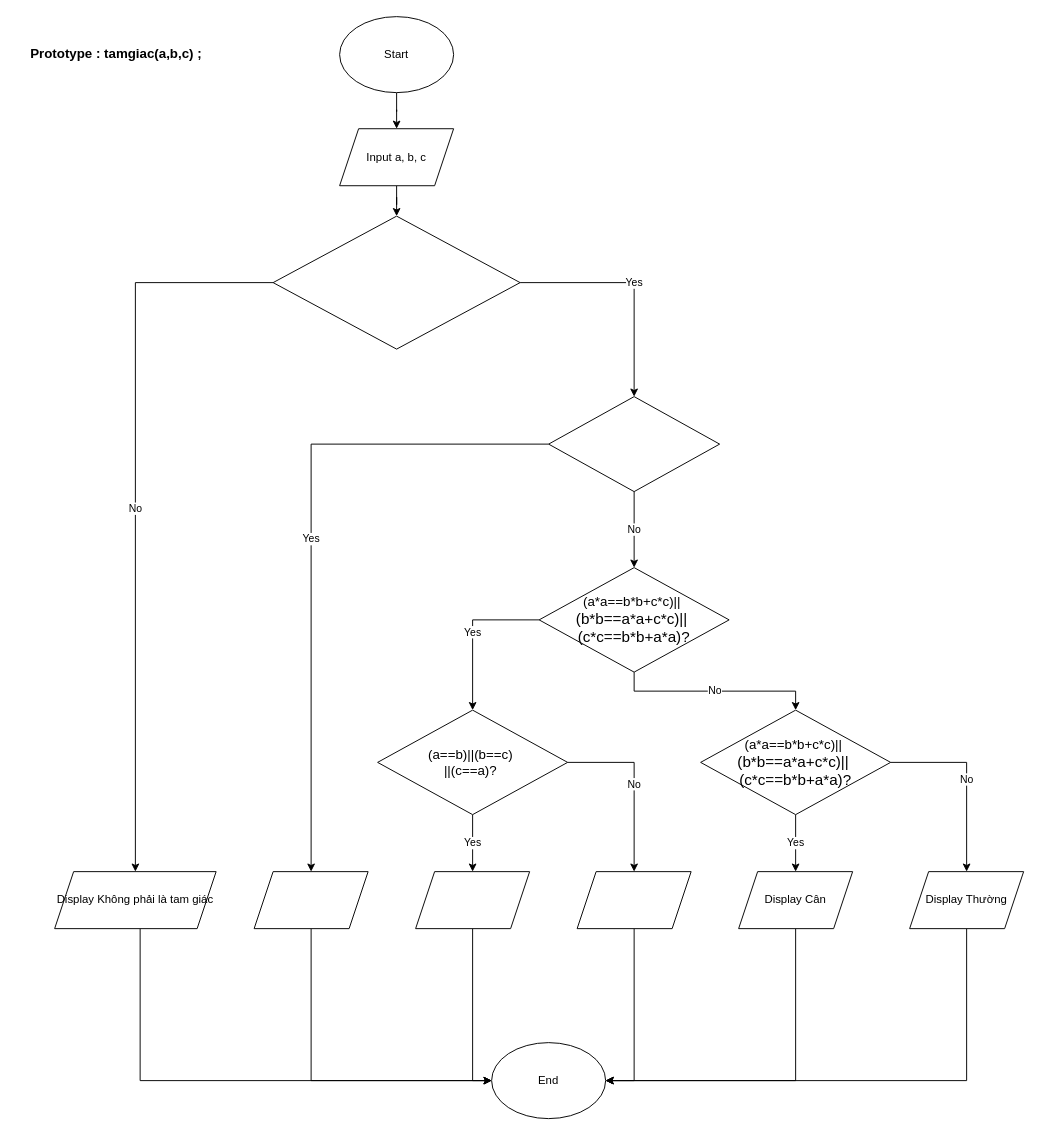
This 1040x1135 diagram has some shape labels left out. Each missing label, with the centre of its shape:
"((a>|b-c|)&&(a<b+c))&& ((b>|a-c|)&&(b<a+c))&& ((c>|b-a|)&&(c<b+a))?" belongs at point (396, 282).
"(a==b)&& (b==c)?" belongs at point (634, 444).
"Display Vuông" belongs at point (633, 900).
"Display Vuông cân" belongs at point (472, 900).
"Display Đều" belongs at point (310, 900).
